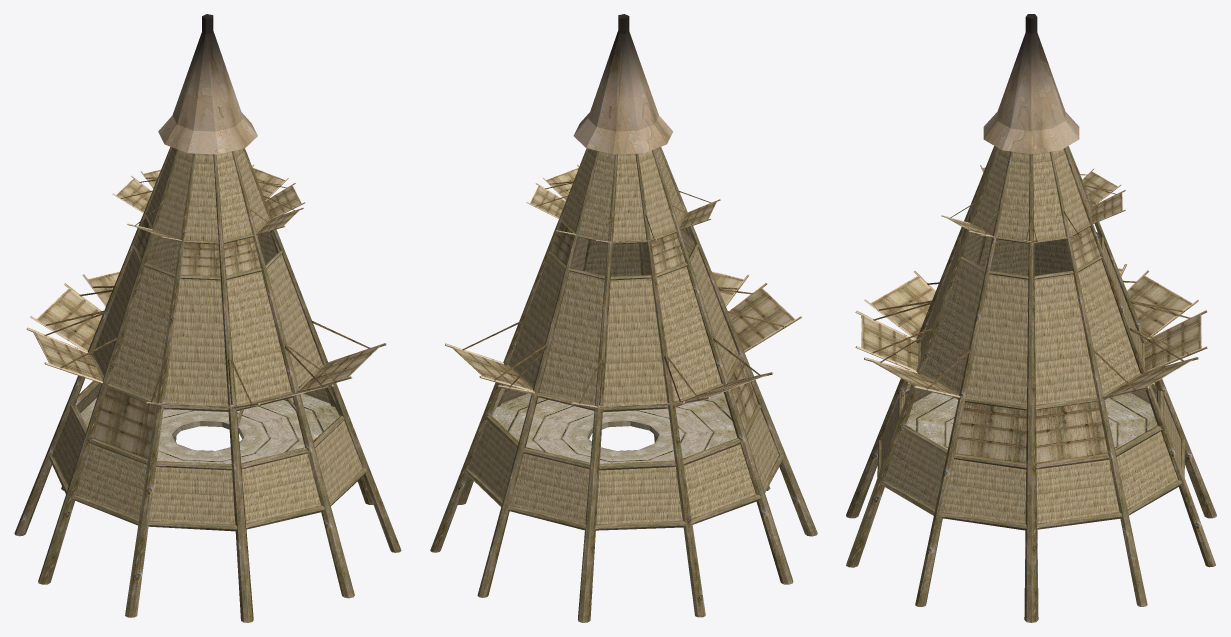
Rendered from thm_endr_lakevillage_lake_hut_l0.fbx.
3 views of the same model, side by side, from view 1: azimuth 30°, elevation 25°; view 2: azimuth 150°, elevation 25°; view 3: azimuth 270°, elevation 25° (orthographic).
Visible parts, largest first — view 1: mesh_node; view 2: mesh_node; view 3: mesh_node.
Part boxes in pixels (<box>): mesh_node: <box>14,14,401,622</box>; mesh_node: <box>430,14,817,622</box>; mesh_node: <box>846,14,1216,622</box>.
Size of the model in its own units: 13.03 by 19.3 by 12.38.
